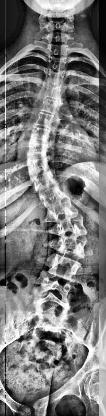Vertebrae: (36, 294, 66, 328), (38, 272, 74, 300), (49, 254, 80, 284), (59, 233, 91, 257), (56, 217, 90, 237), (50, 200, 82, 219), (32, 109, 58, 131), (40, 190, 70, 209), (30, 174, 60, 193), (31, 125, 55, 147), (27, 158, 55, 176), (44, 82, 63, 104), (36, 95, 59, 113), (29, 143, 51, 161), (48, 68, 68, 82)
